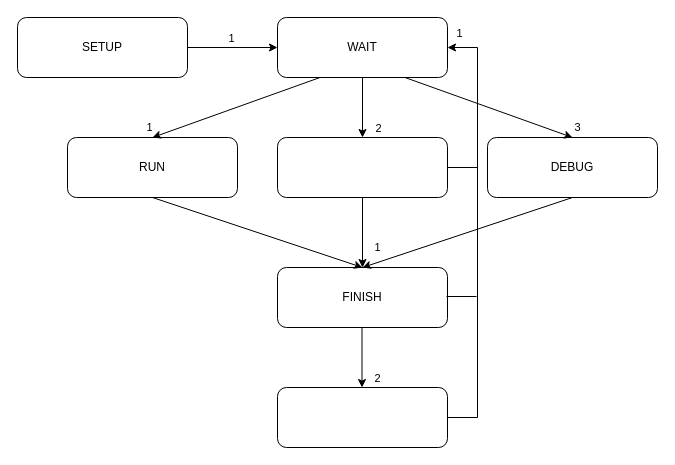
Image size: 675x465. Some labels were removed from this diagram. Here are the shapes that lost their labels. From the top down, the centre of each, then its label:
At (x=362, y=167): "CALIBRATE".
At (x=362, y=417): "TELEMETRY".
